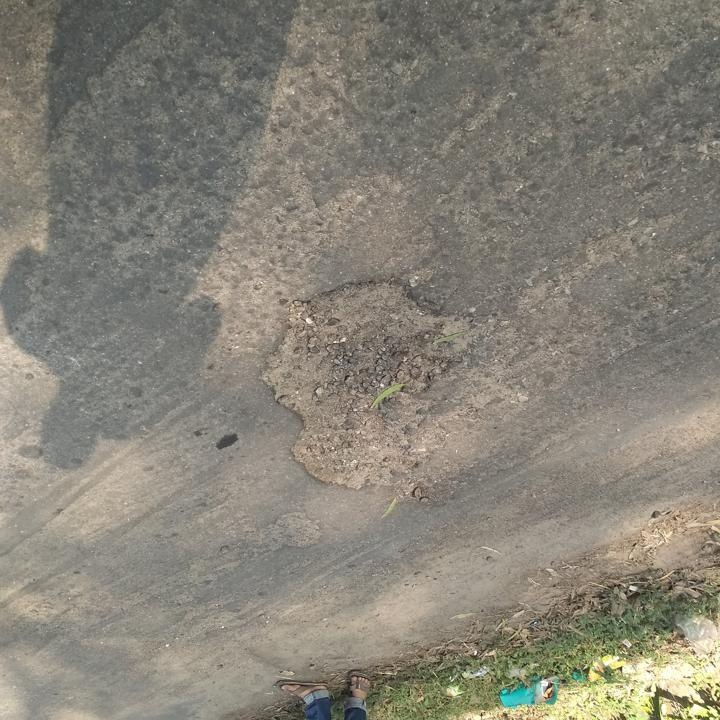pothole: (254, 273, 481, 501), (258, 509, 324, 553)
